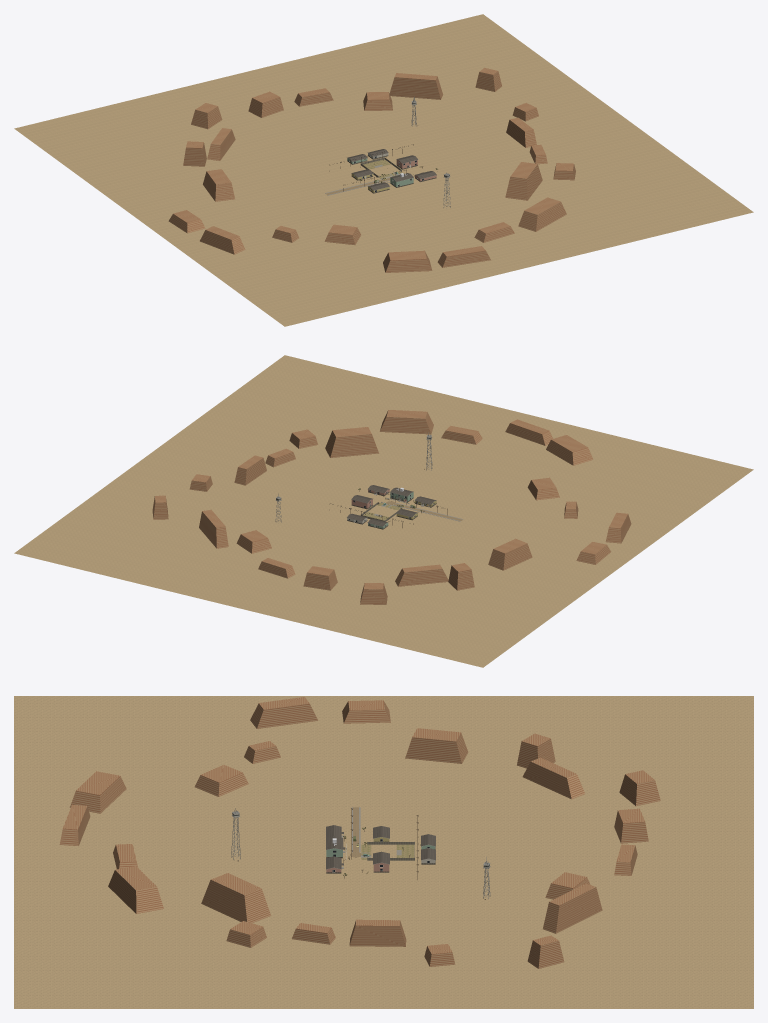
The model's file is H_Exterior.fbx.
The picture shows the model from 3 angles, top to bottom: view 1: azimuth 30°, elevation 25°; view 2: azimuth 150°, elevation 25°; view 3: azimuth 270°, elevation 25°; orthographic projection. The views are drawn at different scales.
Visible parts, largest first — view 1: Ext_Ground_Desert, Ext_Mesas_MesaRock; view 2: Ext_Ground_Desert, Ext_Mesas_MesaRock; view 3: Ext_Ground_Desert, Ext_Mesas_MesaRock.
Part boxes in pixels (bbox=[...]): Ext_Ground_Desert: bbox=[14, 14, 753, 326]; Ext_Mesas_MesaRock: bbox=[168, 68, 575, 272]; Ext_Ground_Desert: bbox=[14, 355, 753, 667]; Ext_Mesas_MesaRock: bbox=[152, 409, 631, 604]; Ext_Ground_Desert: bbox=[14, 696, 753, 1008]; Ext_Mesas_MesaRock: bbox=[59, 697, 660, 968].
Bounding box in the file's own units: 180000 × 14400 × 180000.
Materials: 28 (24 with a texture image).
